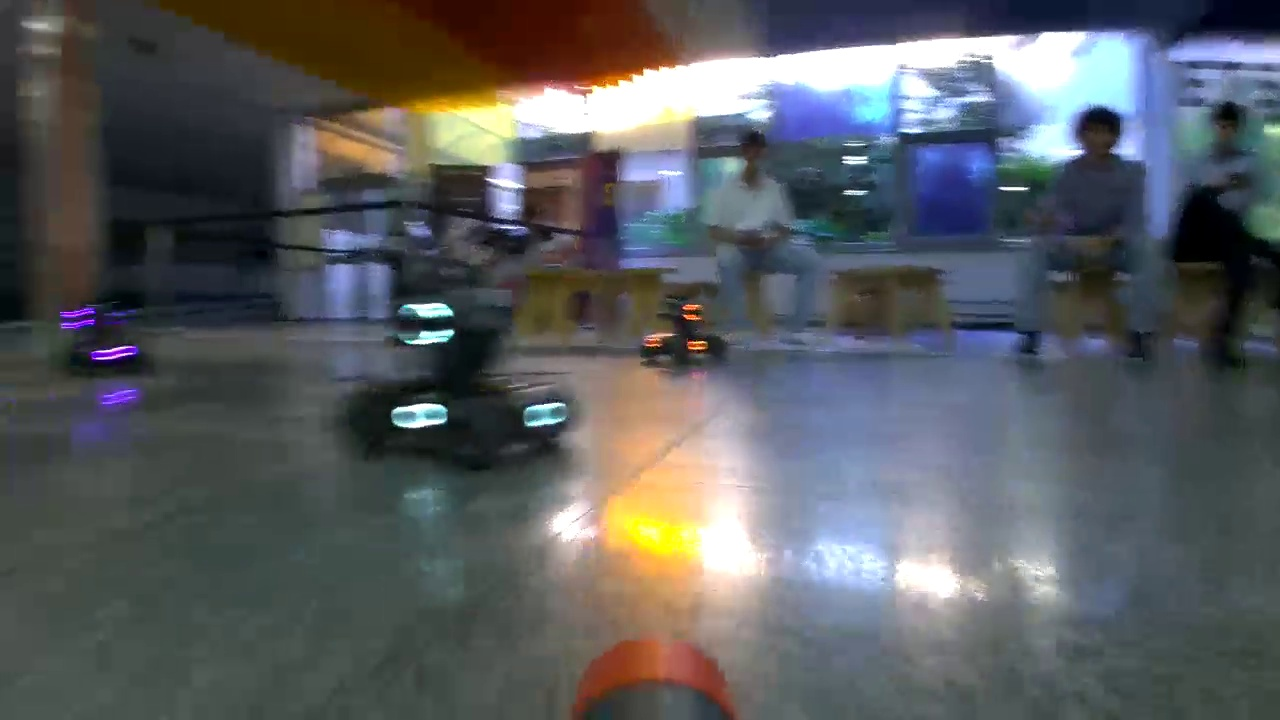robot: (345, 300, 575, 465), (55, 300, 145, 405), (638, 300, 712, 365)
